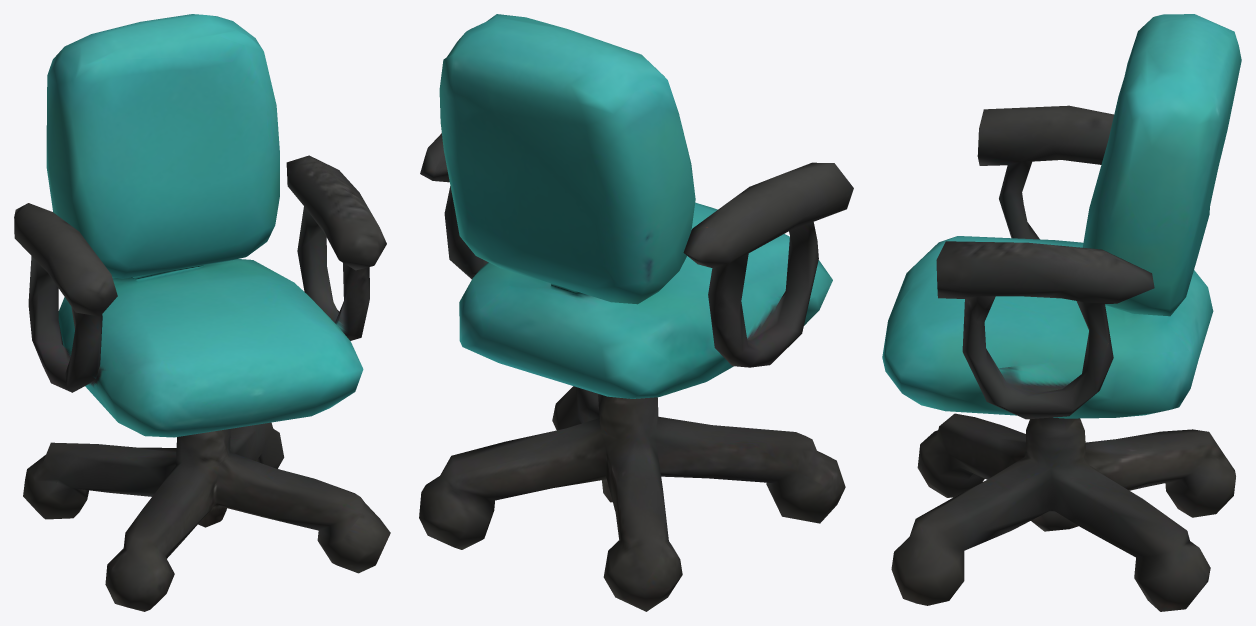
File: chaise.glb
3 renders of one model, left to right at view 1: azimuth 30°, elevation 25°; view 2: azimuth 150°, elevation 25°; view 3: azimuth 270°, elevation 25°, orthographic. The views are drawn at different scales.
Parts seen in each view (by area): view 1: chaise; view 2: chaise; view 3: chaise.
Boxes of the visible parts, x1,y1,x2,y2 form: chaise: [14, 14, 390, 611]; chaise: [419, 14, 853, 611]; chaise: [882, 14, 1241, 611].
Bounding box in the file's own units: 0.1117 × 0.1613 × 0.1007.
Materials: 1 (1 with a texture image).
